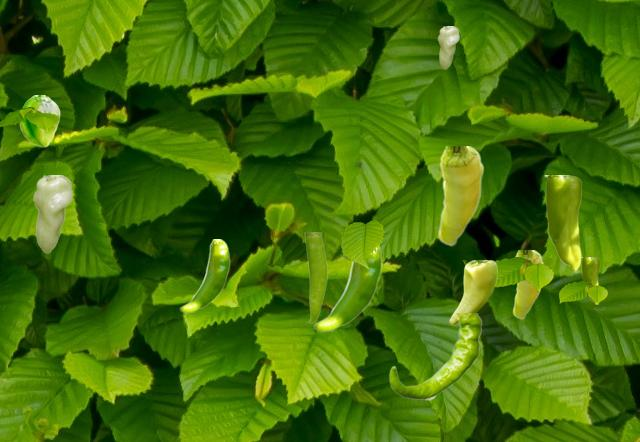green_chili: (389, 313, 481, 399), (313, 246, 381, 331), (437, 146, 483, 245), (179, 239, 229, 312), (544, 175, 580, 270), (449, 260, 496, 324), (32, 175, 71, 252), (512, 250, 543, 318), (19, 95, 59, 146), (304, 232, 326, 322), (437, 26, 458, 68), (581, 257, 598, 303)
